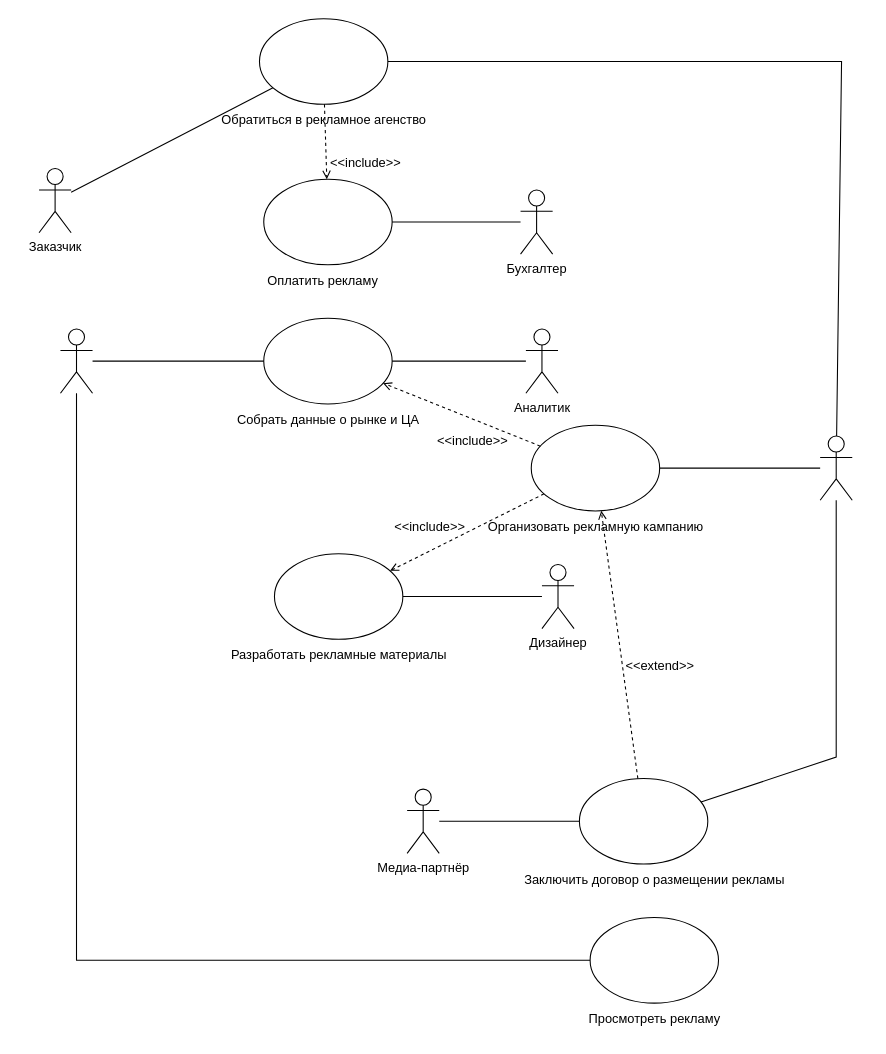
This 886x1054 diagram has some shape labels left out. Here are the shapes that lost their labels. From the top down, the box of each, then its label:
(59, 328, 93, 393): Целевая аудитория
(819, 435, 852, 500): Менеджер
